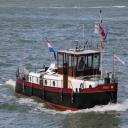tugboat: (14, 11, 120, 116)
